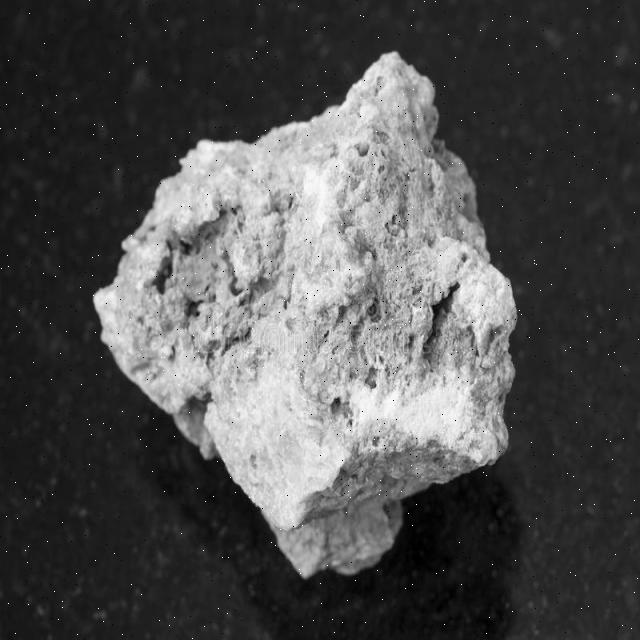Sedimentary: (88, 48, 525, 575)
